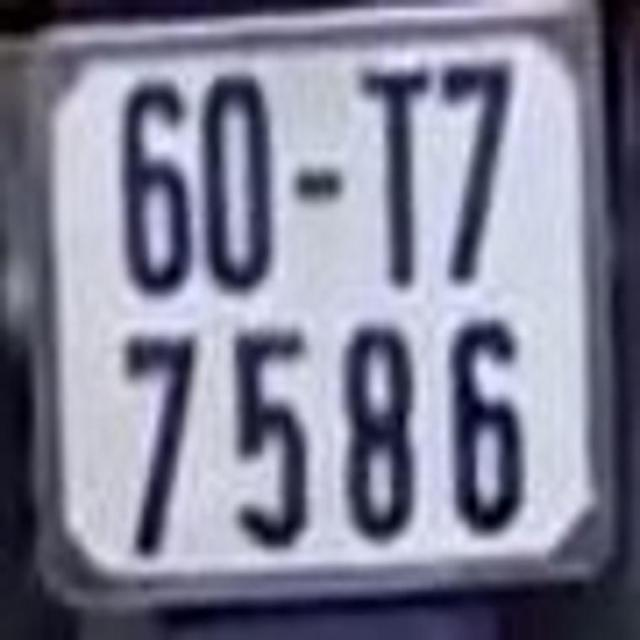0: (200, 72, 272, 290)
5: (227, 321, 320, 544)
6: (450, 311, 532, 528), (120, 72, 190, 287)
7: (121, 336, 207, 553), (440, 55, 516, 292)
8: (340, 318, 420, 536)
T: (356, 58, 434, 288)
